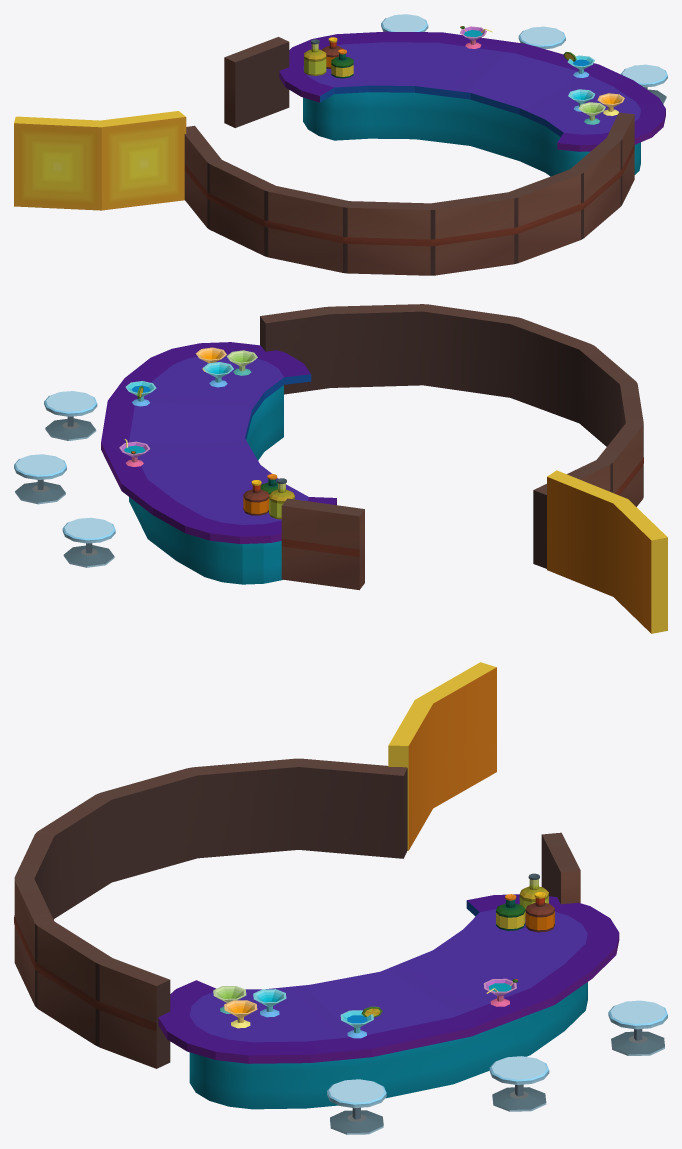
File: BAR_LV1.FBX
3 renders of one model, top to bottom at view 1: azimuth 30°, elevation 25°; view 2: azimuth 150°, elevation 25°; view 3: azimuth 270°, elevation 25°, orthographic. The views are drawn at different scales.
Visible parts, largest first — view 1: LV_1; view 2: LV_1; view 3: LV_1.
Boxes of the visible parts, x1,y1,x2,y2 form: LV_1: [14, 14, 667, 275]; LV_1: [14, 304, 667, 633]; LV_1: [14, 662, 667, 1134].
Bounding box in the file's own units: 18.51 × 2.8 × 13.82.
Materials: 1 (1 with a texture image).
